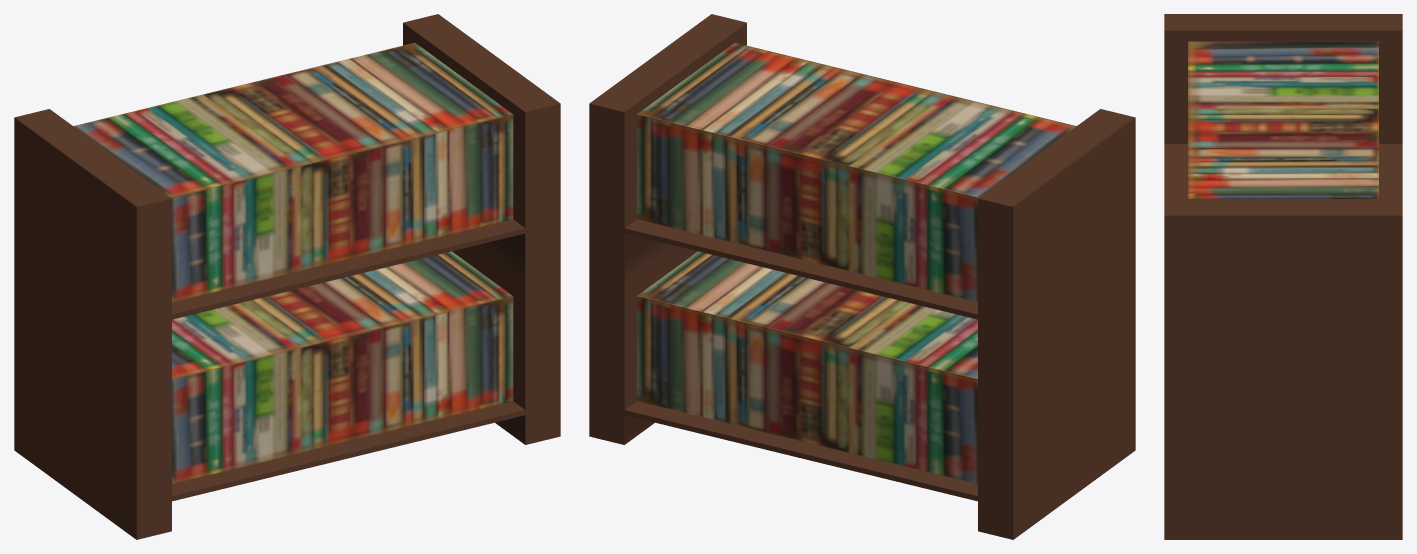
Rendered from decor_ShortBookshelf.fbx.
3 views of the same model, side by side, from view 1: azimuth 30°, elevation 25°; view 2: azimuth 150°, elevation 25°; view 3: azimuth 270°, elevation 25° (orthographic). The views are drawn at different scales.
Parts seen in each view (by area): view 1: ShortBookshelf; view 2: ShortBookshelf; view 3: ShortBookshelf.
Boxes of the visible parts, x1,y1,x2,y2 form: ShortBookshelf: (14, 14, 560, 539); ShortBookshelf: (589, 14, 1135, 539); ShortBookshelf: (1164, 14, 1402, 539).
Bounding box in the file's own units: 400 × 300 × 200.
1 material, 1 textured.
